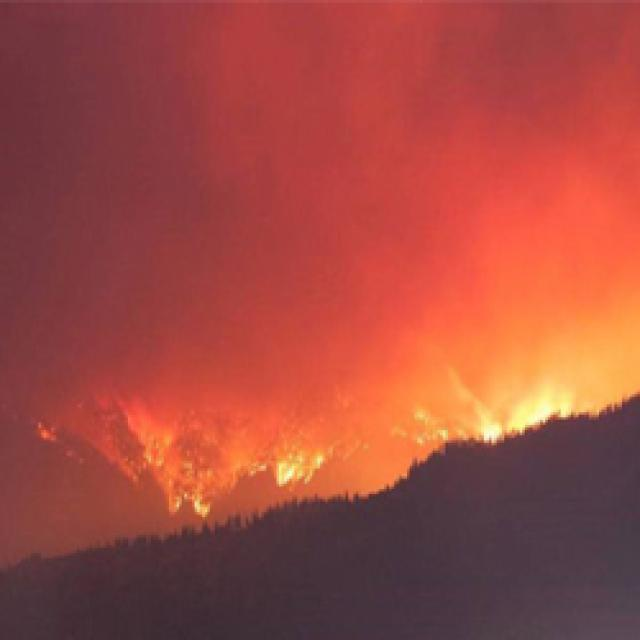Fire: (34, 358, 246, 536), (234, 373, 388, 503), (444, 371, 590, 464)
Smoke: (151, 0, 635, 358)
